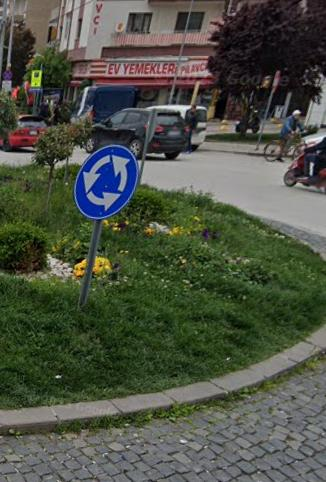crossroads: (74, 147, 143, 216)
